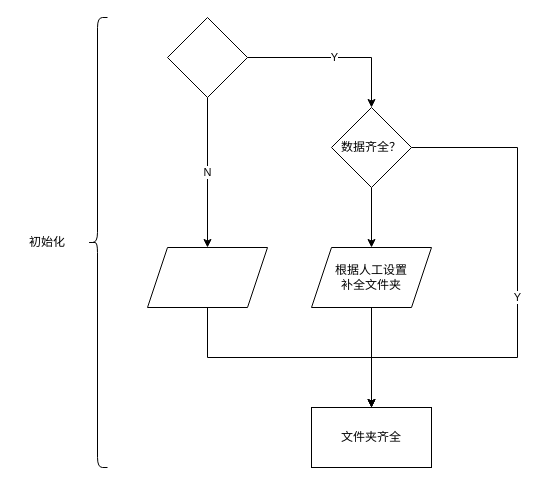
Some shapes in this 543 by 485 pixel diagram are drawn without their labels. The centre of each missing label's shape, as x and y in pixels:
"新建整个体系" belongs at (207,277).
"有无数据" belongs at (207,57).
